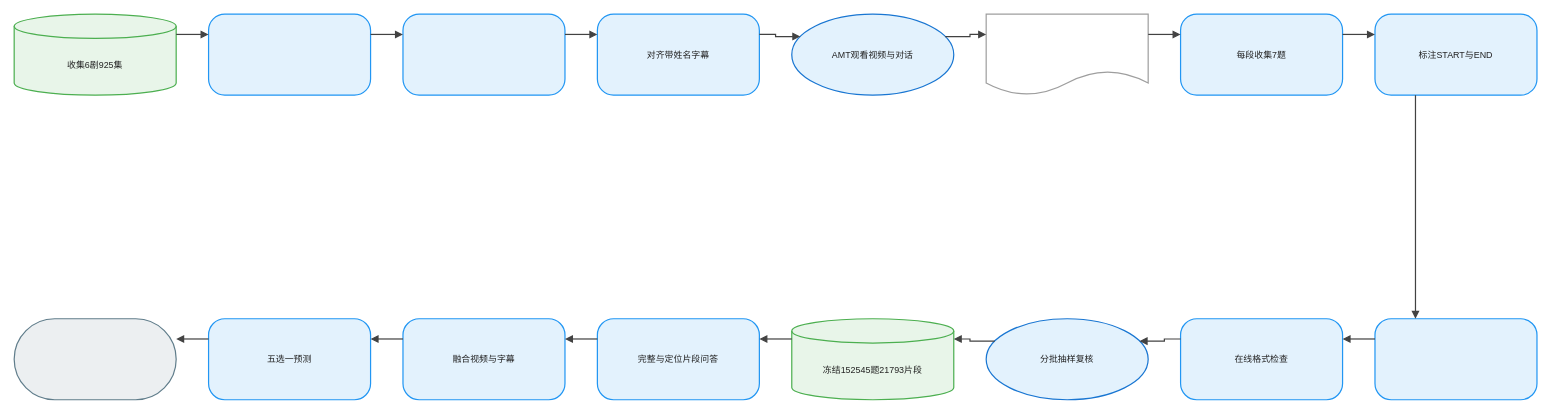
Some shapes in this 1552 by 415 pixel diagram are drawn without their labels. The box of each missing label's shape, as (x1, y1, x2, y2) in pixels:
1正确加4干扰: (1374, 318, 1537, 400)
保留字幕句子边界: (402, 13, 565, 95)
切分60或90秒片段: (208, 13, 371, 95)
报告准确率: (13, 318, 176, 400)
编写定位复合问题: (985, 13, 1148, 95)
